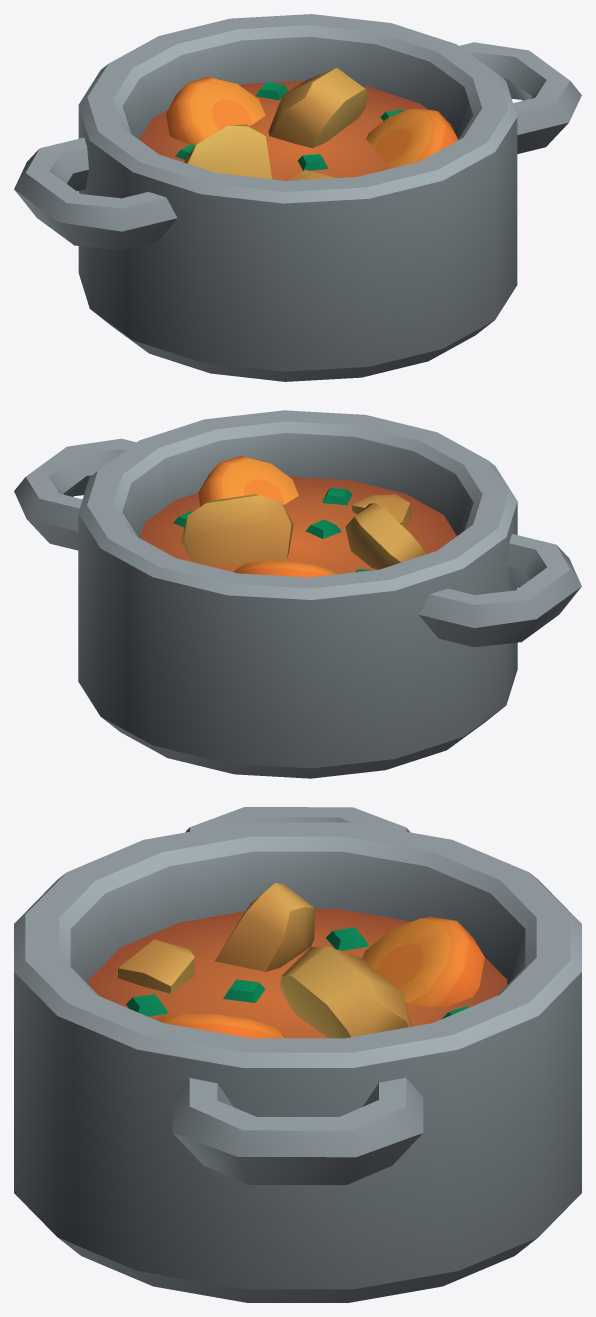
The model's file is Pot of Stew-1D2tRExbVX.glb.
The picture shows the model from 3 angles, top to bottom: view 1: azimuth 30°, elevation 25°; view 2: azimuth 150°, elevation 25°; view 3: azimuth 270°, elevation 25°; orthographic projection. The views are drawn at different scales.
Visible parts, largest first — view 1: pot_A_stew; view 2: pot_A_stew; view 3: pot_A_stew.
Part boxes in pixels (x1=…): pot_A_stew: x1=14, y1=14, x2=581, y2=381; pot_A_stew: x1=14, y1=410, x2=581, y2=778; pot_A_stew: x1=14, y1=807, x2=581, y2=1302.
Bounding box in the file's own units: 1.4 × 0.5159 × 1.
Materials: 1 (1 with a texture image).
